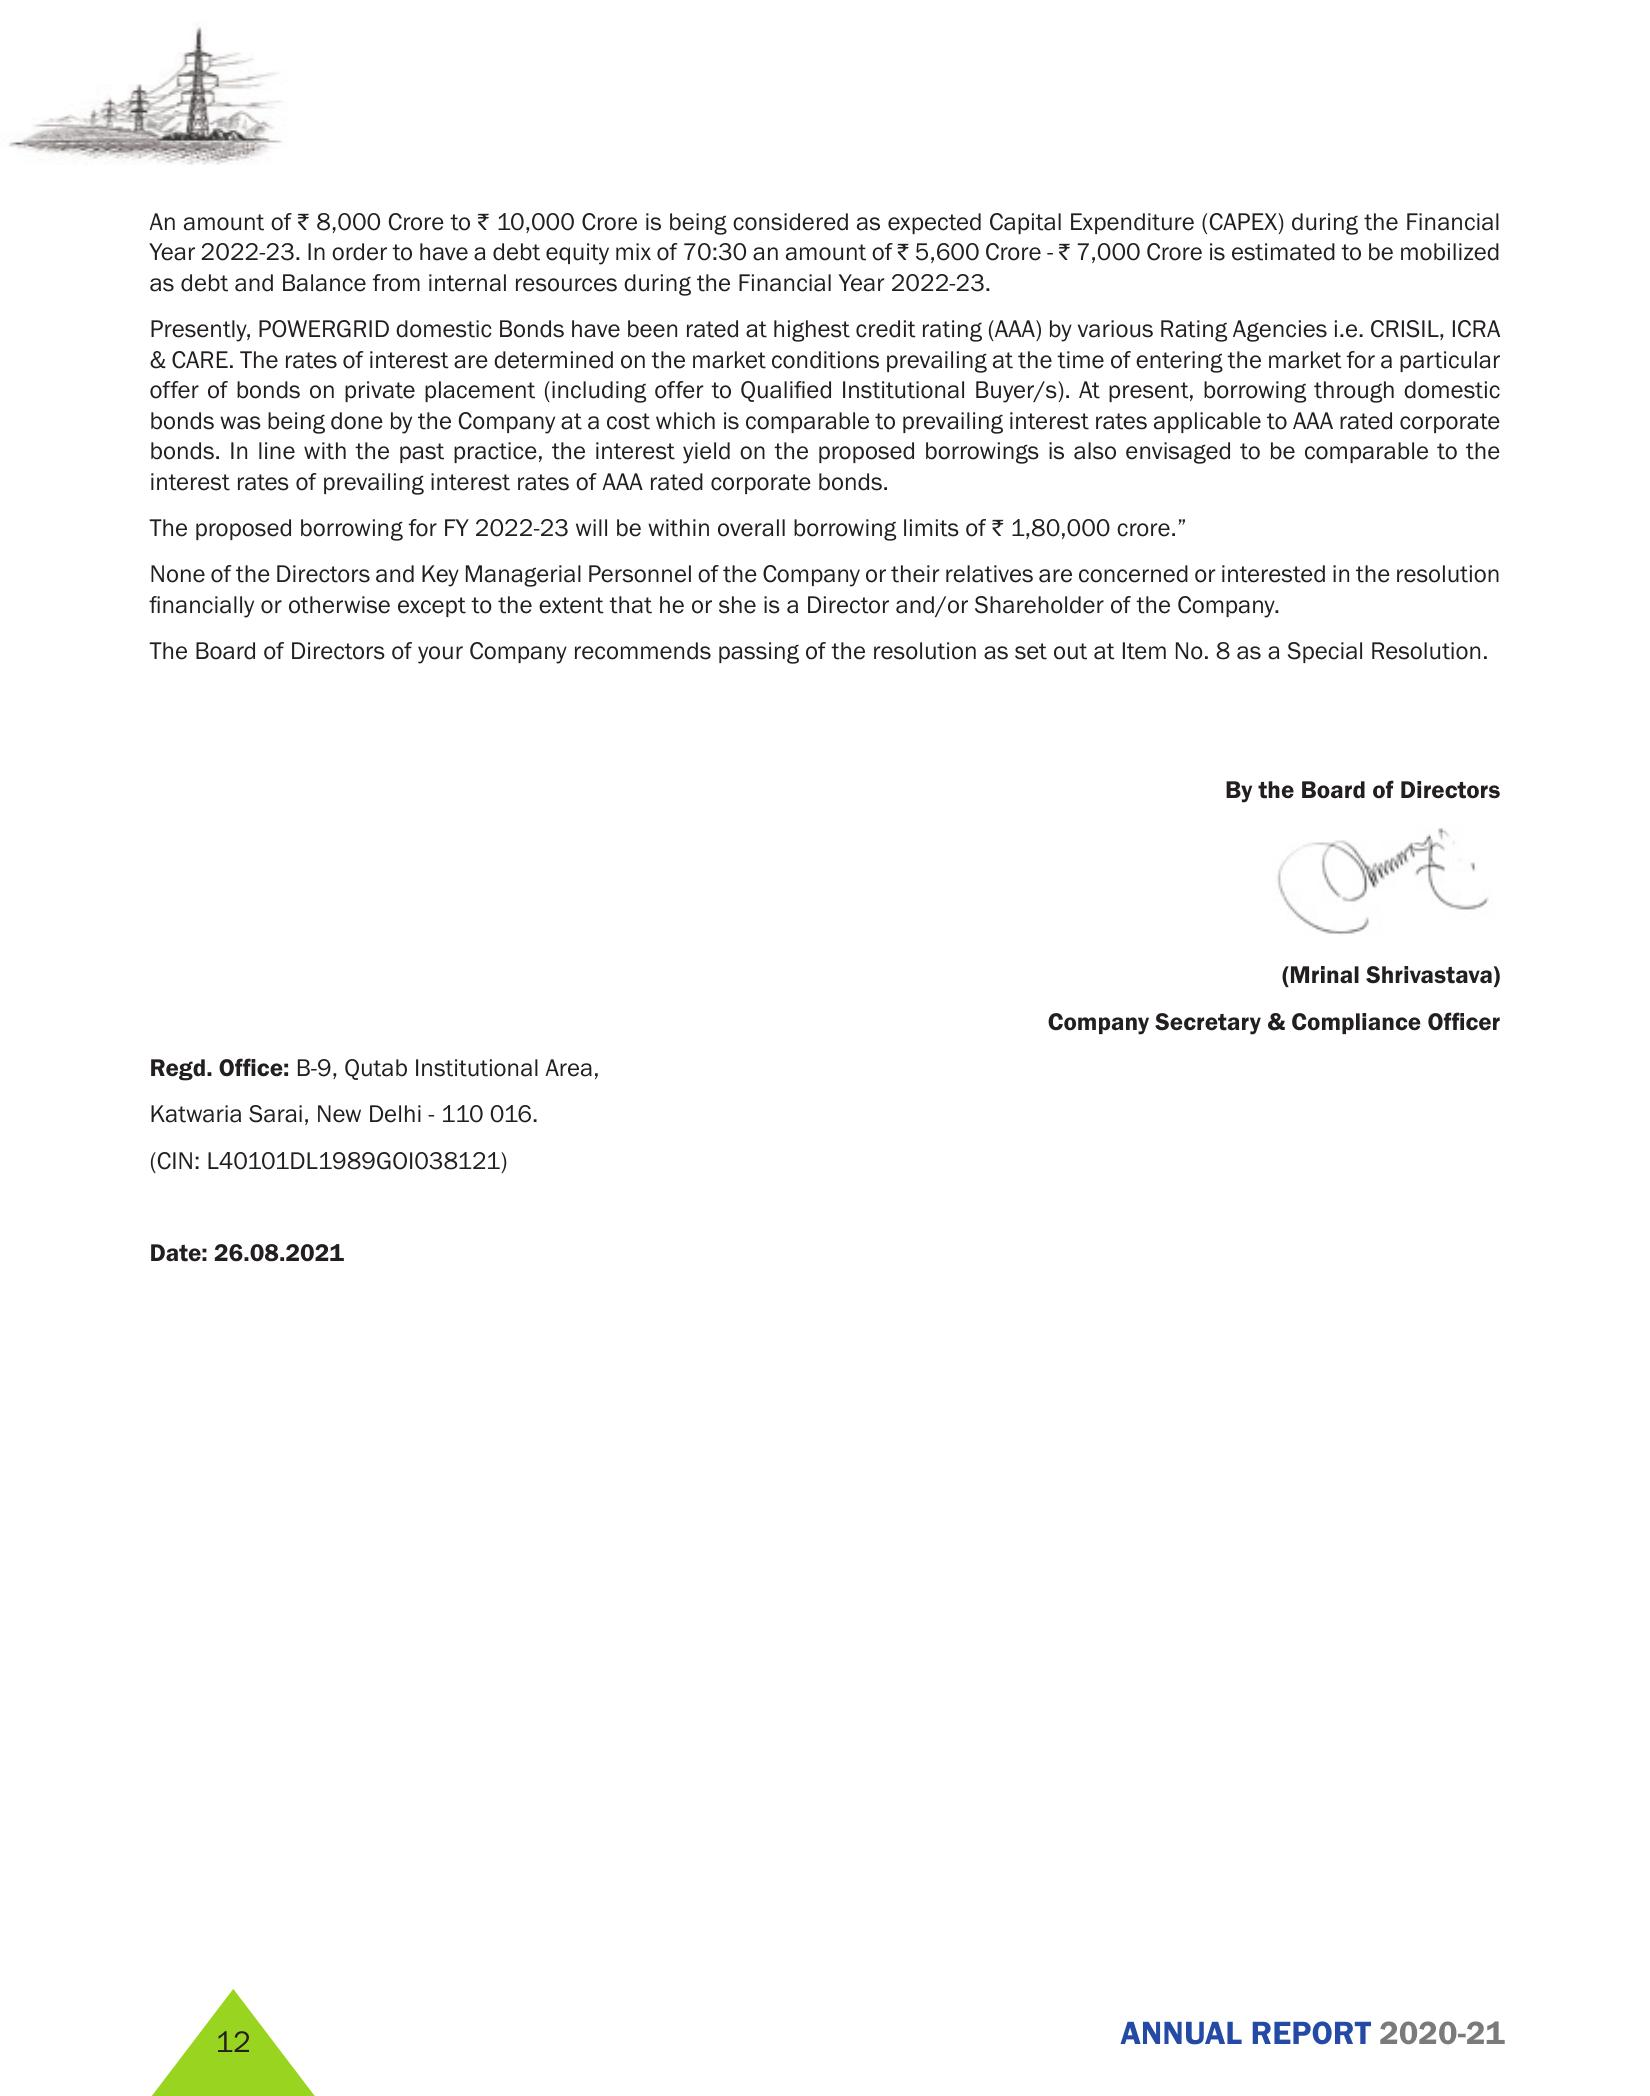Footer: (0, 1965, 1650, 2096)
Header: (0, 0, 1650, 192)
